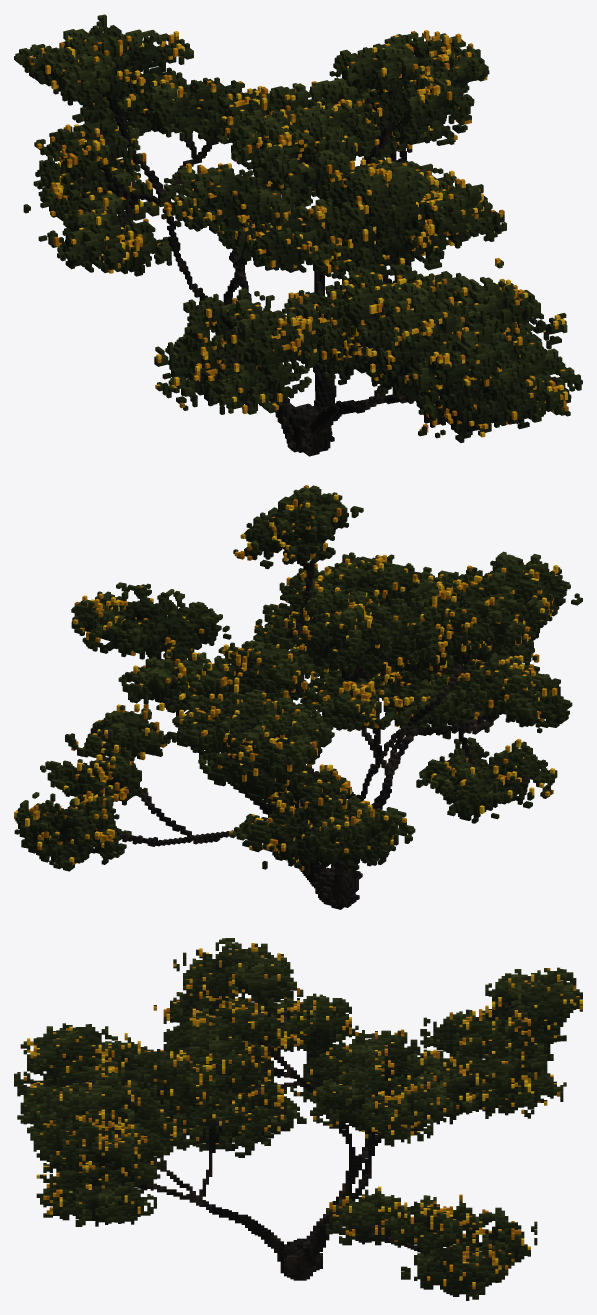
Rendered from acacia_australiana_01_LOD0.fbx.
3 renders of one model, top to bottom at view 1: azimuth 30°, elevation 25°; view 2: azimuth 150°, elevation 25°; view 3: azimuth 270°, elevation 25°, orthographic. The views are drawn at different scales.
Visible parts, largest first — view 1: acacia_australiana_01_LOD0; view 2: acacia_australiana_01_LOD0; view 3: acacia_australiana_01_LOD0.
Boxes of the visible parts, x1,y1,x2,y2 form: acacia_australiana_01_LOD0: (14, 14, 582, 456); acacia_australiana_01_LOD0: (14, 485, 582, 909); acacia_australiana_01_LOD0: (14, 938, 582, 1300).
Size of the model in its own units: 769 by 706 by 1094.
